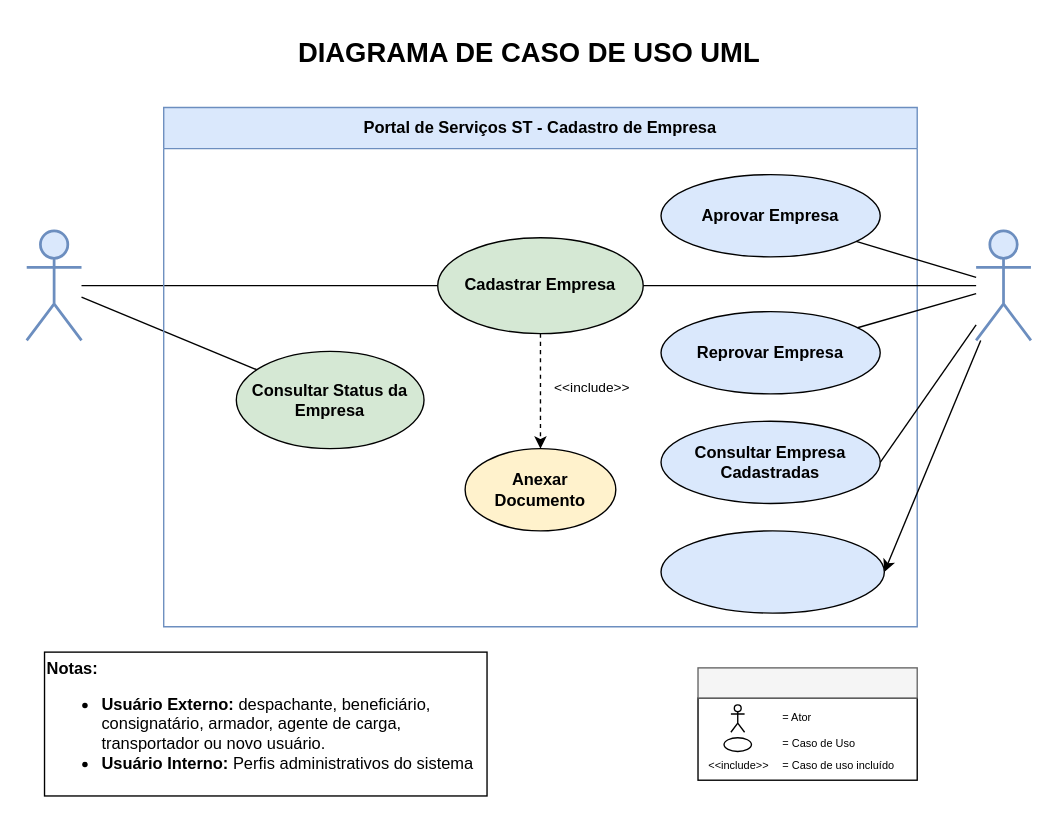
This 1058x819 diagram has some shape labels left out. The centre of each missing label's shape, as x and y in pixels:
LEGENDA: (807,682)
Usuário Externo: (53,285)
Usuário Interno: (1003,285)
Vincular Responsável: (772,571)
